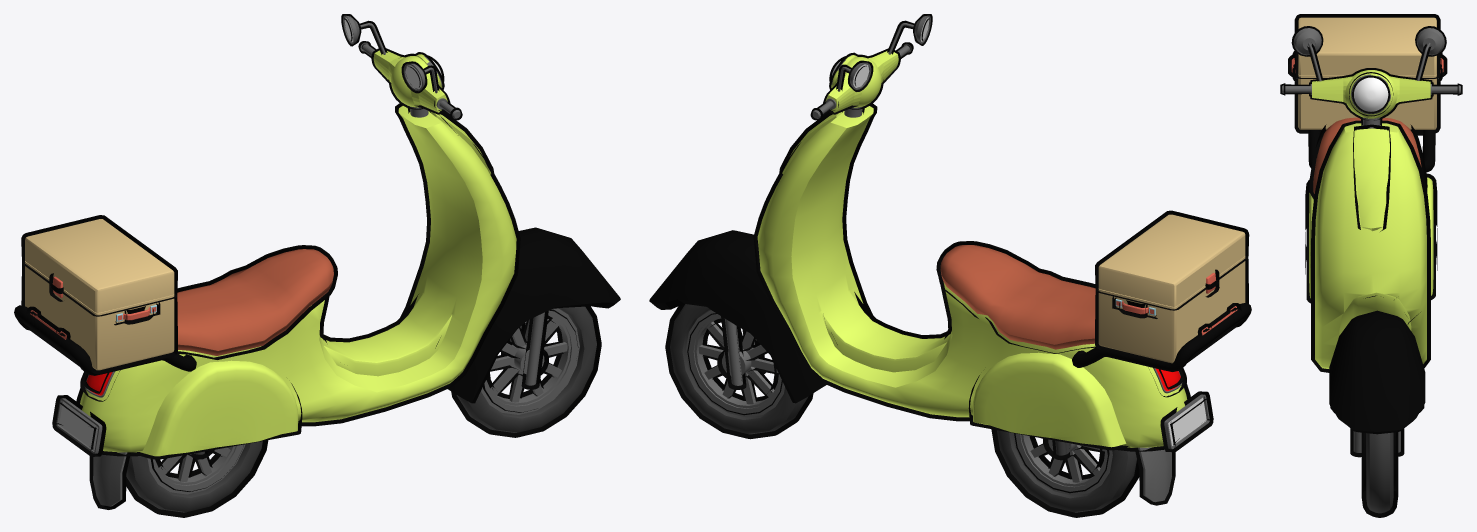
File: Vespa.fbx
3 renders of one model, left to right at view 1: azimuth 30°, elevation 25°; view 2: azimuth 150°, elevation 25°; view 3: azimuth 270°, elevation 25°, orthographic. The views are drawn at different scales.
Visible parts, largest first — view 1: Body, WheelFront, Mudguard, WheelBack, HandleBar; view 2: Body, Mudguard, WheelFront, WheelBack, HandleBar; view 3: Body, Mudguard, HandleBar, WheelFront.
Boxes of the visible parts, box(x1,y1,x2,y2) form: Body: box(14, 103, 520, 509); WheelFront: box(451, 306, 601, 437); Mudguard: box(448, 227, 620, 403); WheelBack: box(126, 440, 268, 517); HandleBar: box(341, 14, 462, 120); Body: box(753, 104, 1251, 505); Mudguard: box(649, 230, 826, 403); WheelFront: box(665, 303, 813, 439); WheelBack: box(991, 429, 1139, 517); HandleBar: box(810, 14, 932, 120); Body: box(1288, 14, 1447, 372); Mudguard: box(1329, 310, 1425, 457); HandleBar: box(1280, 26, 1462, 128); WheelFront: box(1361, 432, 1398, 517).
Bounding box in the file's own units: 1.98 × 0.5742 × 1.44.
